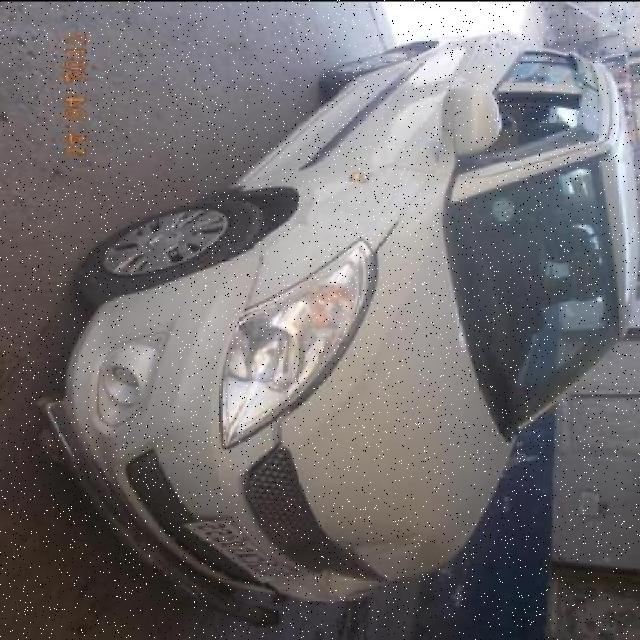damage: (297, 177, 385, 233), (231, 236, 277, 320), (349, 532, 421, 578), (290, 569, 377, 602)
